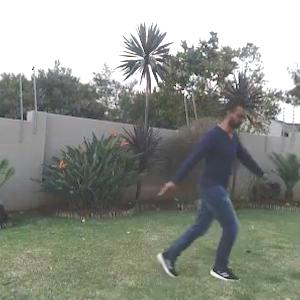land: (138, 85, 268, 290)
